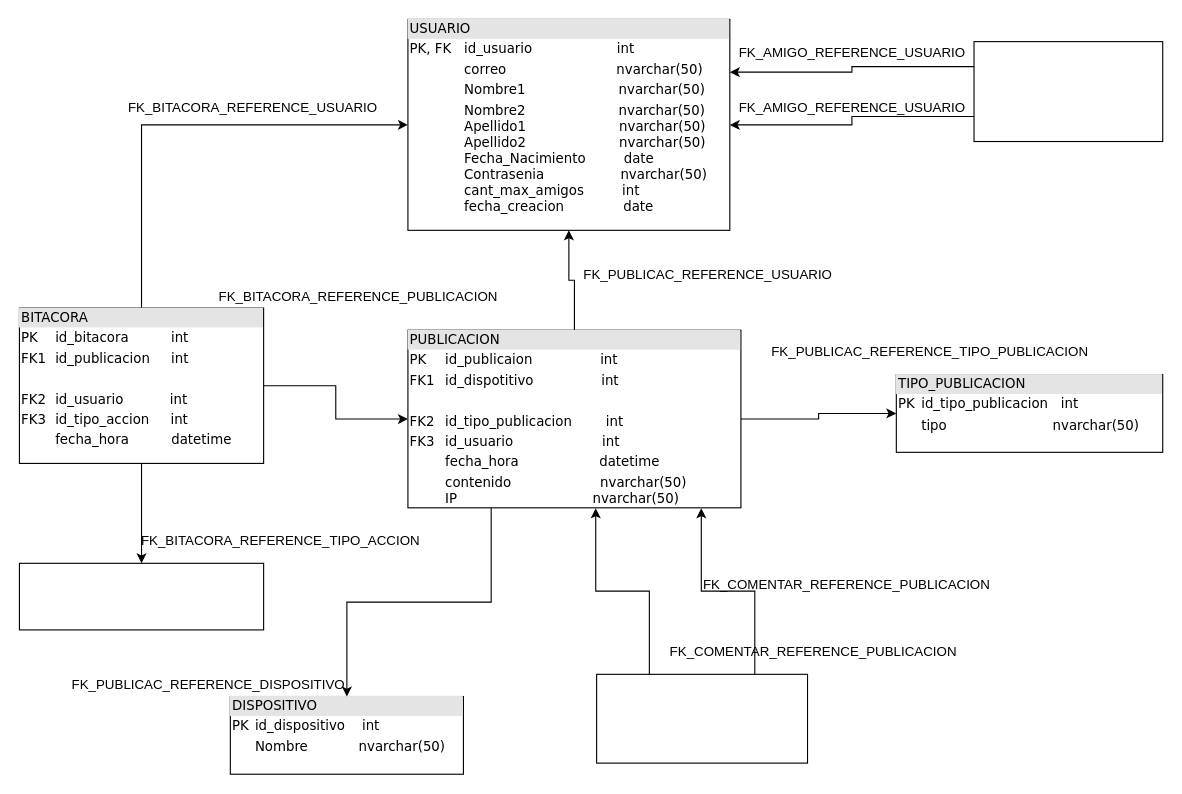
This 1182x794 diagram has some shape labels left out. The shapes that lost their labels are listed below. From the top down, each one's centre as x and y in pixels, then its label:
At pixel 1068 91: "AMIGO PK id_amistad int FK1 id_usuario int FK2 id_amigo int".
At pixel 141 596: "TIPO_ACCION PK id_tipo_accion int accion nvarchar(50)".
At pixel 702 718: "COMENTARIO PK,FK1 id_comentario int FK2 id_publicacion int activo bit".
